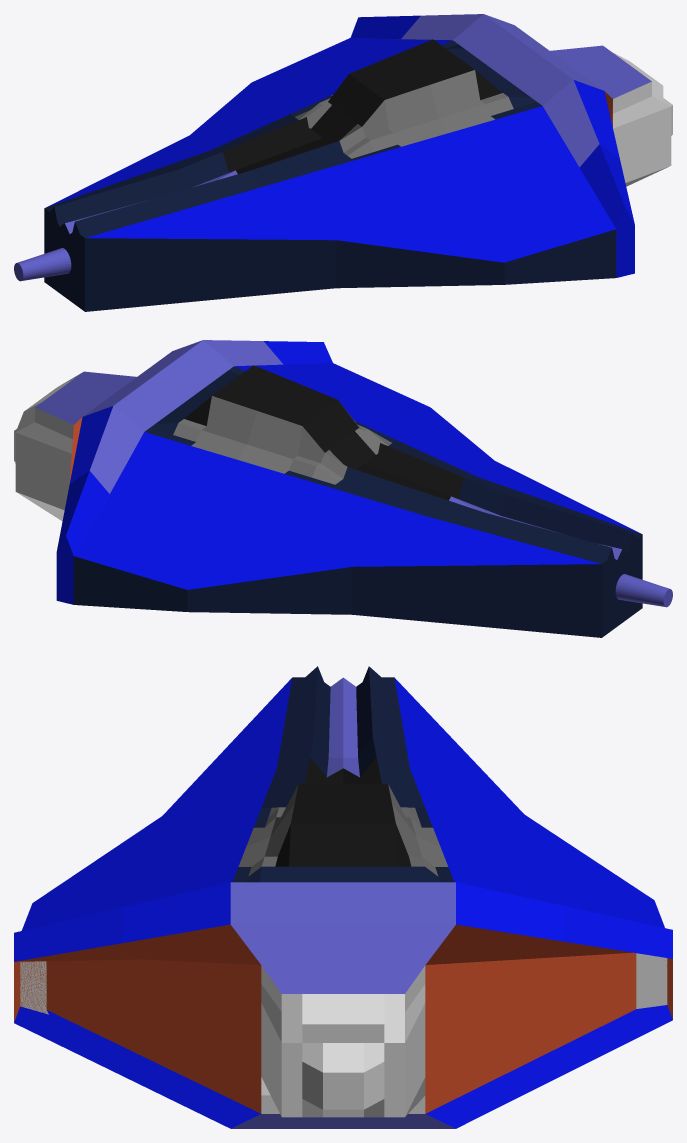
The model's file is PlayerShip.fbx.
3 views of the same model, one above another, from view 1: azimuth 30°, elevation 25°; view 2: azimuth 150°, elevation 25°; view 3: azimuth 270°, elevation 25° (orthographic). The views are drawn at different scales.
Parts seen in each view (by area): view 1: Cube, Cylinder; view 2: Cube, Cylinder; view 3: Cube.
Part boxes in pixels (<box>): Cube: <box>44,14,672,311</box>; Cylinder: <box>14,248,71,281</box>; Cube: <box>14,340,642,637</box>; Cylinder: <box>615,574,672,607</box>; Cube: <box>14,666,672,1128</box>.
Bounding box in the file's own units: 814 × 231 × 573.
